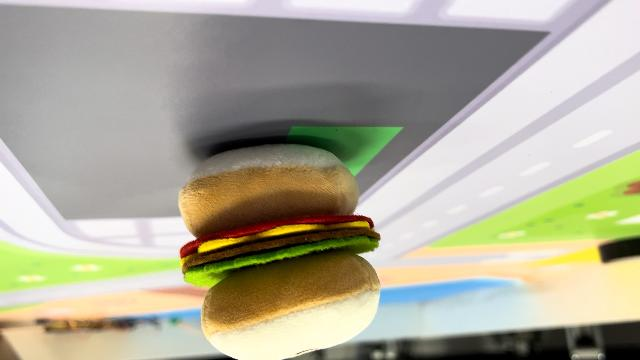sandwich: (174, 140, 386, 356)
